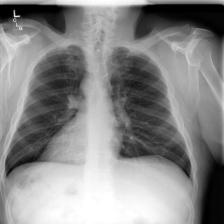normal: (0, 41, 196, 190)
